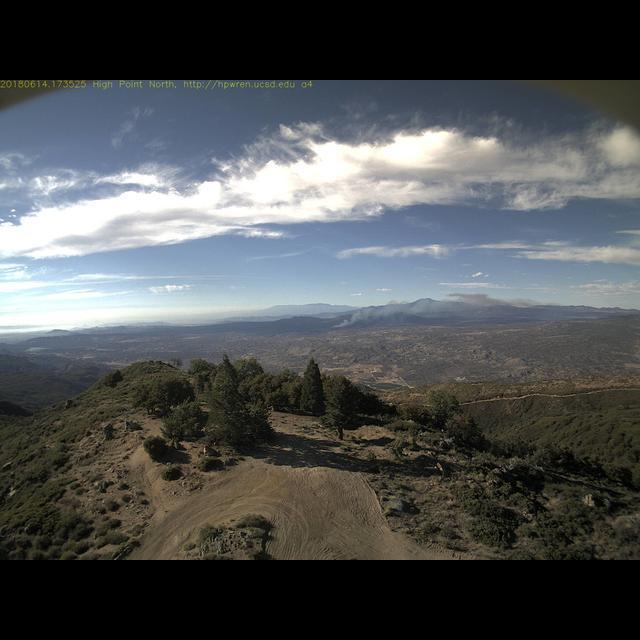Smoke: (325, 283, 517, 333)
